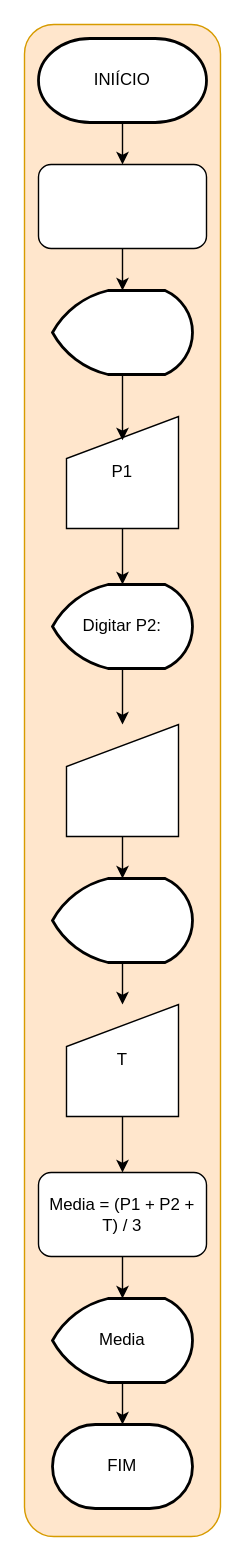
This 245x1561 diagram has some shape labels left out. Here are the shapes that lost their labels. From the top down, the box of each, then its label:
(37, 163, 206, 248): P1,P2,T,Media
(50, 288, 193, 375): Digitar P1:
(65, 723, 178, 836): P2
(50, 876, 193, 963): Digitar T:
